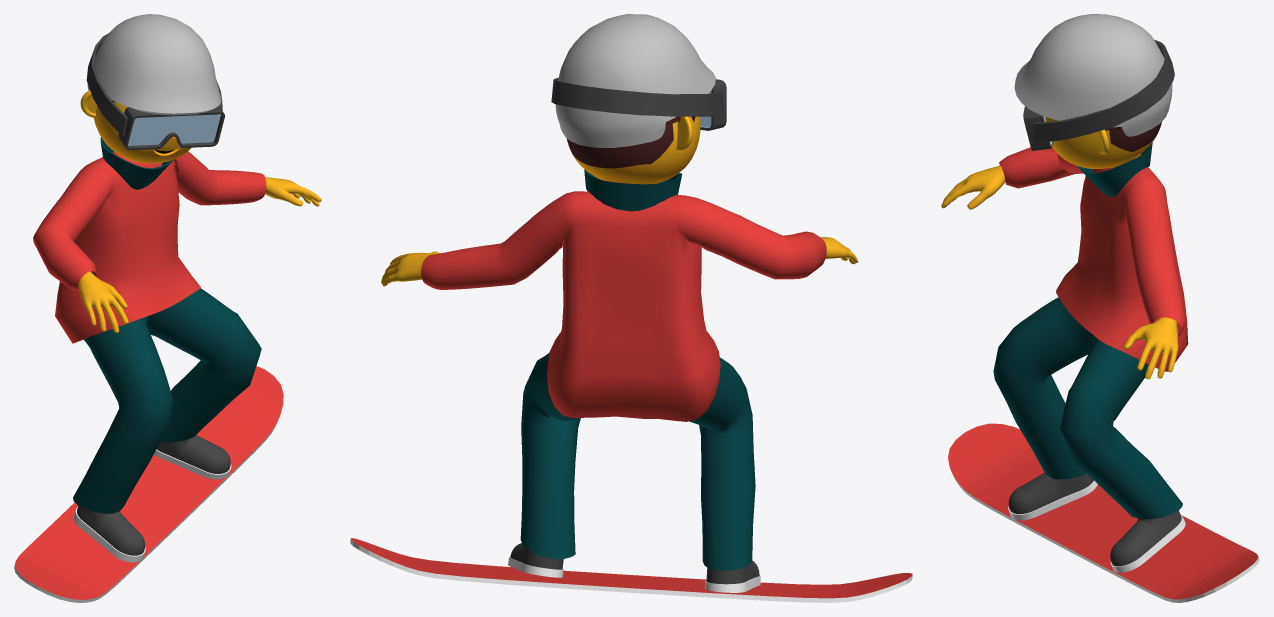
Rendered from snowboarder.glb.
The picture shows the model from 3 angles, left to right: view 1: azimuth 30°, elevation 25°; view 2: azimuth 150°, elevation 25°; view 3: azimuth 270°, elevation 25°; orthographic projection. The views are drawn at different scales.
Parts seen in each view (by area): view 1: Circle.083, Plane.024, Cube.256, Plane.022, Sphere.376, Sphere.374, Roundcube.451, Plane.023, Plane.021; view 2: Circle.083, Cube.256, Plane.024, Roundcube.451, Plane.023, Plane.021, Sphere.376, Sphere.374; view 3: Circle.083, Plane.024, Cube.256, Plane.023, Roundcube.451, Sphere.376, Sphere.374, Plane.021, Plane.022.
Boxes of the visible parts, x1,y1,x2,y2 form: Circle.083: (33, 151, 321, 513); Plane.024: (14, 366, 283, 602); Cube.256: (87, 14, 221, 115); Plane.022: (118, 106, 224, 150); Sphere.376: (73, 505, 145, 562); Sphere.374: (153, 435, 231, 479); Roundcube.451: (93, 102, 191, 163); Plane.023: (86, 33, 222, 136); Plane.021: (100, 137, 173, 189); Circle.083: (381, 191, 858, 570); Cube.256: (555, 14, 715, 147); Plane.024: (350, 538, 912, 602); Roundcube.451: (566, 116, 700, 184); Plane.023: (551, 78, 724, 116); Plane.021: (584, 169, 682, 211); Sphere.376: (704, 560, 760, 592); Sphere.374: (508, 543, 563, 577); Circle.083: (941, 147, 1188, 519); Plane.024: (948, 423, 1259, 602); Cube.256: (1014, 14, 1172, 136); Plane.023: (1033, 40, 1174, 141); Roundcube.451: (1045, 117, 1161, 168); Sphere.376: (1008, 472, 1097, 520); Sphere.374: (1110, 510, 1185, 572); Plane.021: (1077, 142, 1152, 196); Plane.022: (1023, 106, 1052, 150).
Size of the model in its own units: 1.63 by 2.09 by 1.13.
2 materials, 2 textured.
